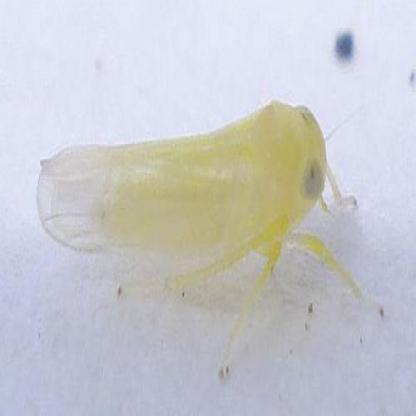green-leafhopper: (38, 103, 326, 276)
